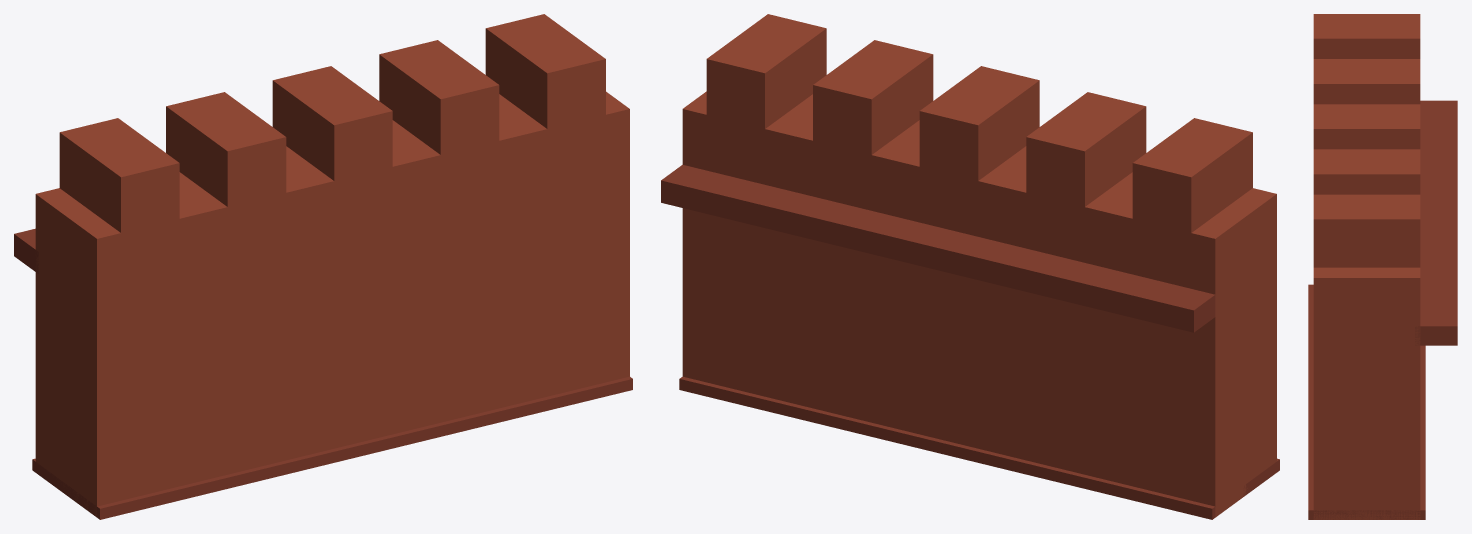
The model's file is fort_wall_segment.glb.
3 renders of one model, left to right at view 1: azimuth 30°, elevation 25°; view 2: azimuth 150°, elevation 25°; view 3: azimuth 270°, elevation 25°, orthographic. The views are drawn at different scales.
Visible parts, largest first — view 1: model; view 2: model; view 3: model.
Part boxes in pixels (x1=…): model: x1=14, y1=14, x2=632, y2=519; model: x1=661, y1=14, x2=1279, y2=519; model: x1=1308, y1=14, x2=1457, y2=519.
Bounding box in the file's own units: 10 × 6 × 2.8.
